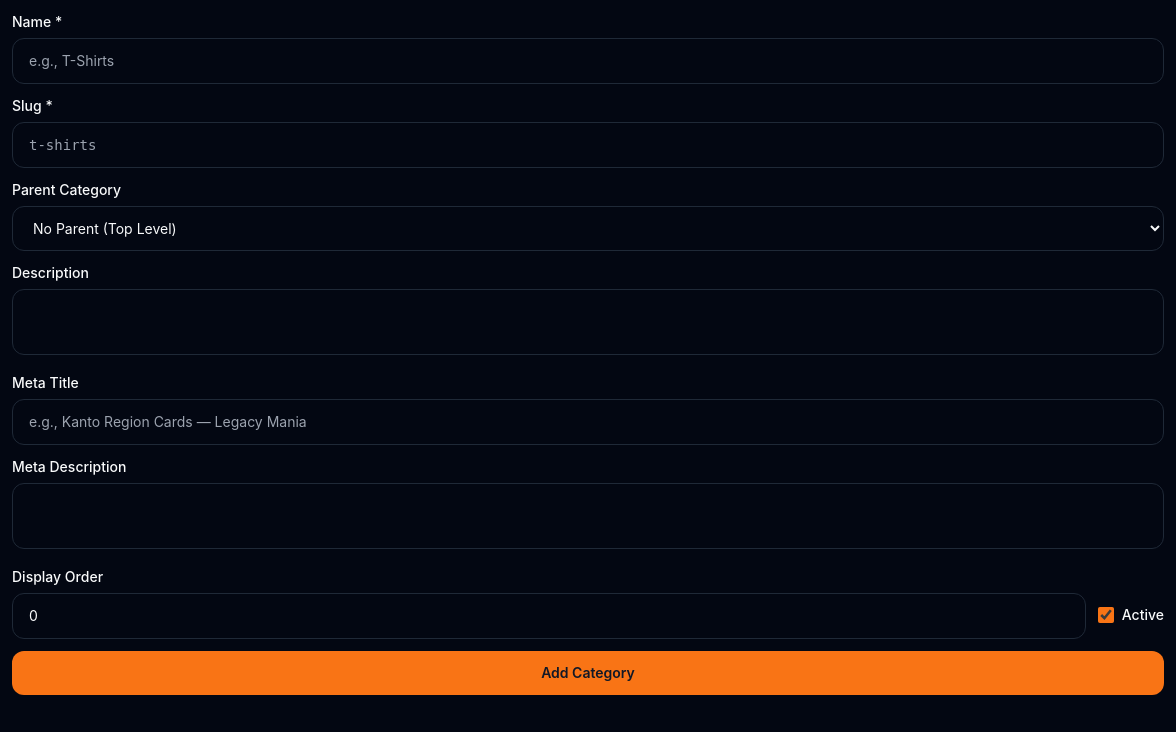
Scenario: CategoryForm › auto-slugs from the name on create only
Type "T-Shirts" into the field labelled "Name *" at (588, 61), box [12,38,1164,84]
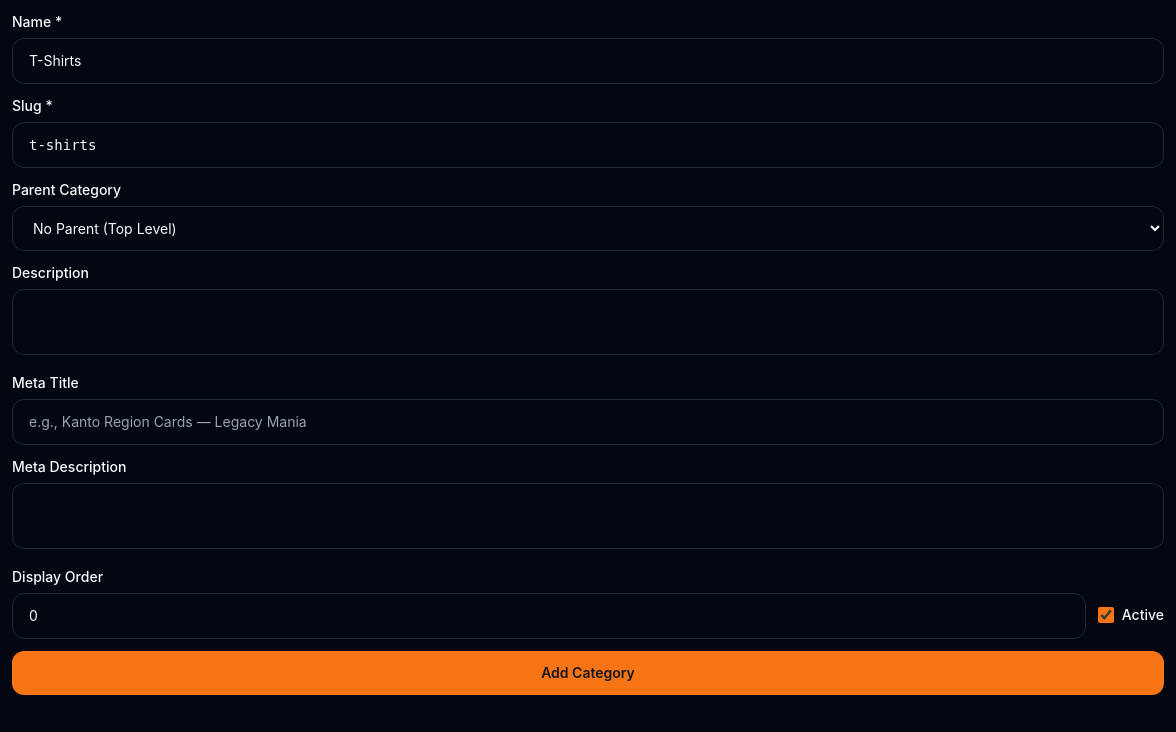
Now the field labelled "Slug *" holds "t-shirts", box [12,122,1164,168]
